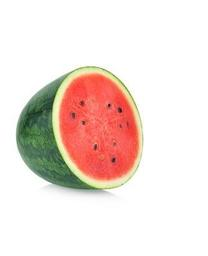watermelon: (16, 66, 142, 191)
